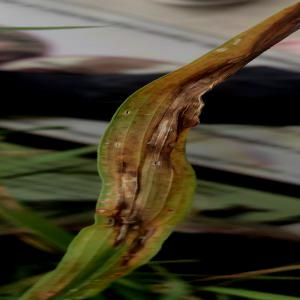1 RiceBlast: (148, 74, 227, 162), (108, 213, 166, 260), (88, 194, 143, 240)
